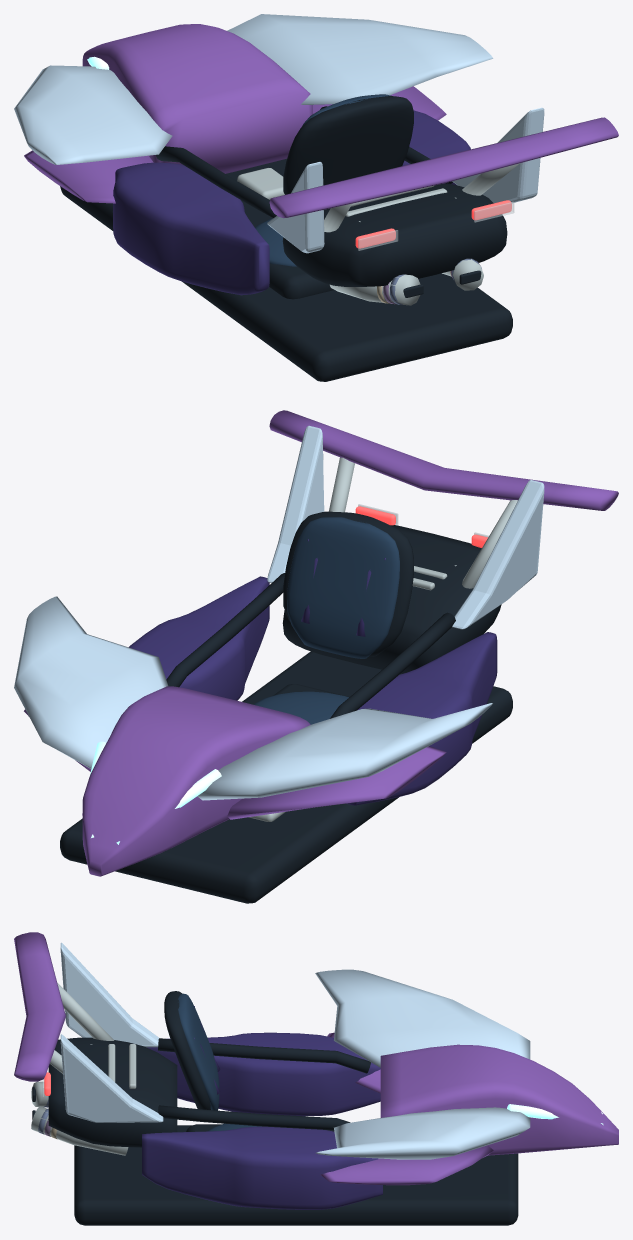
Rendered from kristallfalter.glb.
The picture shows the model from 3 angles, top to bottom: view 1: azimuth 30°, elevation 25°; view 2: azimuth 150°, elevation 25°; view 3: azimuth 270°, elevation 25°; orthographic projection. The views are drawn at different scales.
Parts seen in each view (by area): view 1: LOD0, ShowroomDetail; view 2: LOD0; view 3: LOD0.
Part boxes in pixels (x1,y1,x2,y2): LOD0: (14,14,618,381); ShowroomDetail: (358,201,514,304); LOD0: (14,410,618,903); LOD0: (14,932,618,1225).
Size of what is drawn, in the model's own units: 1.82 by 0.9316 by 2.59.
